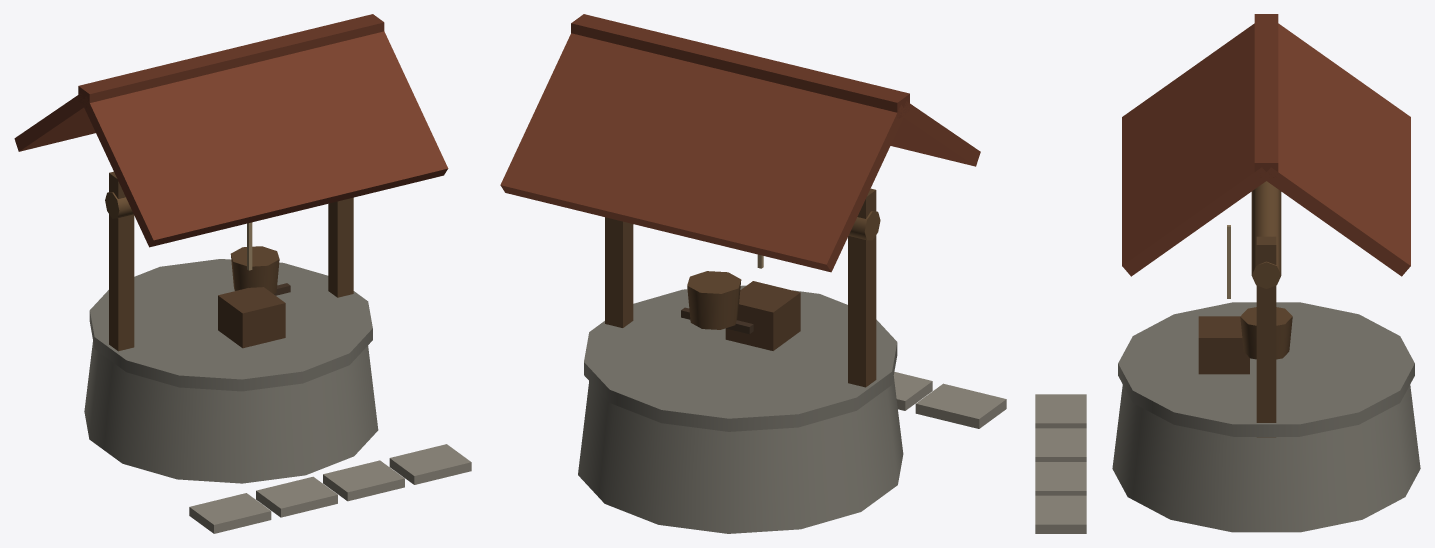
Rendered from procedural_well@3.glb.
3 views of the same model, side by side, from view 1: azimuth 30°, elevation 25°; view 2: azimuth 150°, elevation 25°; view 3: azimuth 270°, elevation 25° (orthographic). The views are drawn at different scales.
Parts seen in each view (by area): view 1: part_0; view 2: part_0; view 3: part_0.
Boxes of the visible parts, left/top/right/bottom form: part_0: left=14, top=14, right=471, bottom=533; part_0: left=500, top=14, right=1006, bottom=533; part_0: left=1035, top=14, right=1420, bottom=533.
Bounding box in the file's own units: 3.09 × 3.68 × 3.38.
